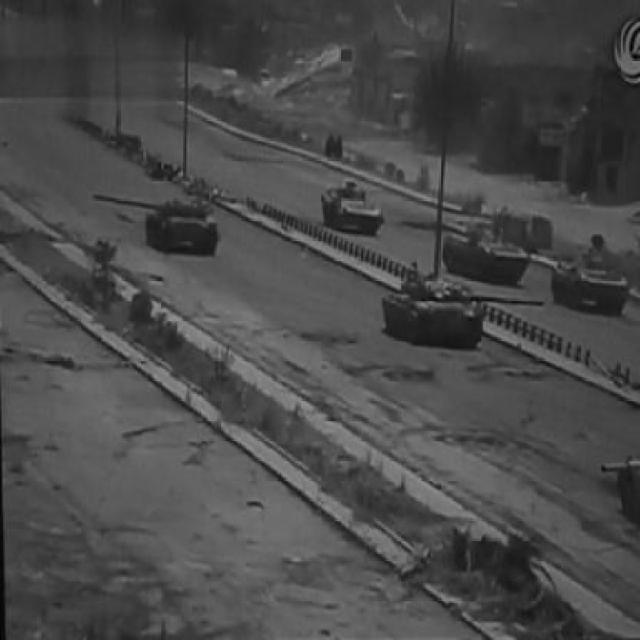Tank: (371, 257, 559, 363), (420, 200, 557, 291), (87, 184, 233, 264), (547, 220, 640, 319), (315, 173, 392, 244), (593, 442, 640, 536)
